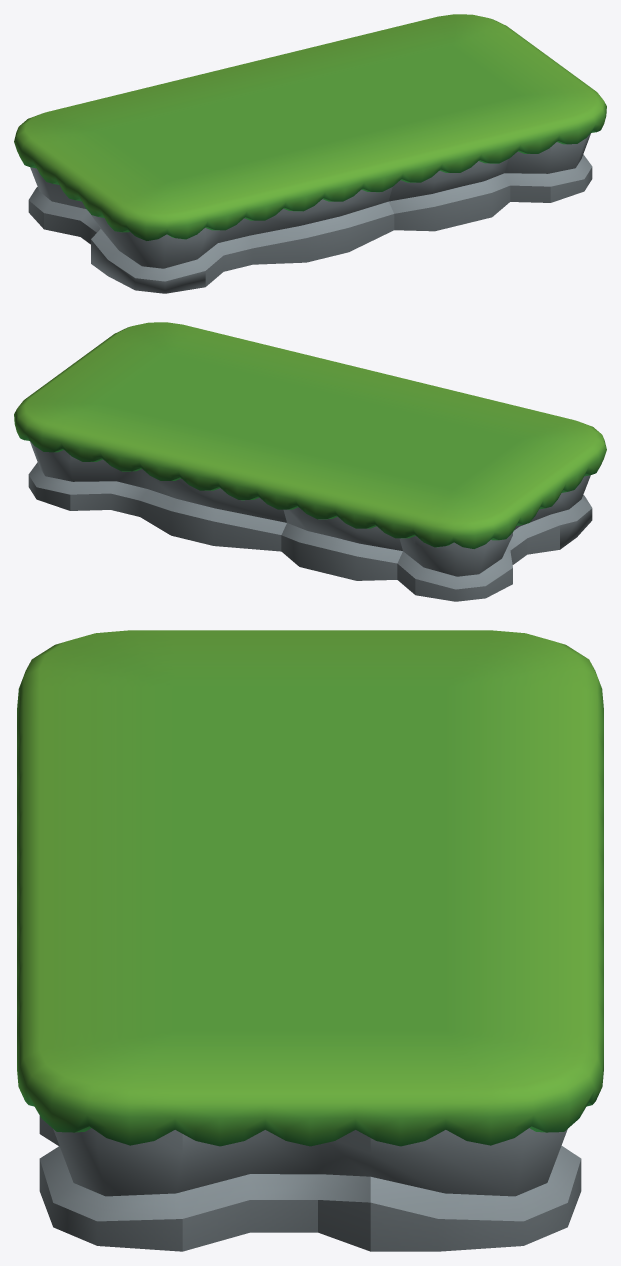
Rendered from Hill_12x6x2_Color1.gltf.
3 renders of one model, top to bottom at view 1: azimuth 30°, elevation 25°; view 2: azimuth 150°, elevation 25°; view 3: azimuth 270°, elevation 25°, orthographic. The views are drawn at different scales.
Visible parts, largest first — view 1: Hill_12x6x2_Color1; view 2: Hill_12x6x2_Color1; view 3: Hill_12x6x2_Color1.
Boxes of the visible parts, box(x1,y1,x2,y2) form: Hill_12x6x2_Color1: box(14, 14, 606, 293); Hill_12x6x2_Color1: box(14, 322, 606, 601); Hill_12x6x2_Color1: box(17, 630, 603, 1251).
Bounding box in the file's own units: 12.5 × 2 × 6.5.
1 material, 1 textured.
